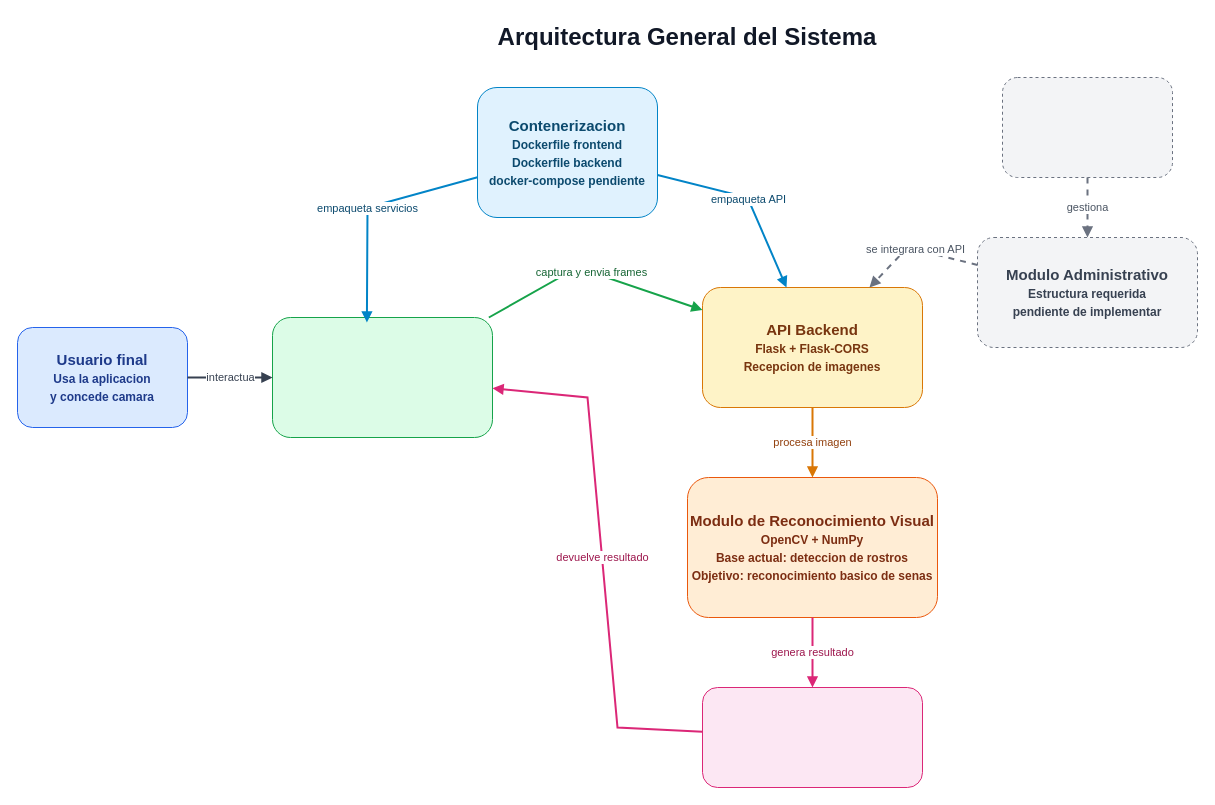
Some shapes in this 1215 by 805 pixel diagram are drawn without their labels. The centre of each missing label's shape, as x and y in pixels:
Administrador Modulo administrativo pendiente: pixel 1087 127
Aplicacion Web Frontend React + TypeScript + Vite Camara y visualizacion: pixel 382 377
Respuesta JSON exito cantidad detectada coordenadas: pixel 812 737
